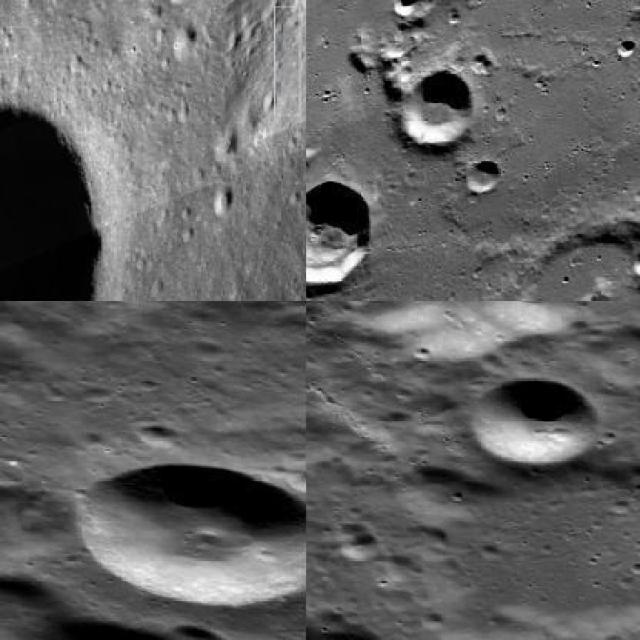crater: (80, 464, 305, 610), (0, 104, 100, 298), (345, 300, 592, 362), (474, 380, 600, 468), (522, 223, 638, 299), (306, 182, 369, 284), (403, 70, 474, 144), (466, 161, 500, 194), (163, 624, 229, 638), (394, 0, 421, 17), (615, 41, 634, 57)
